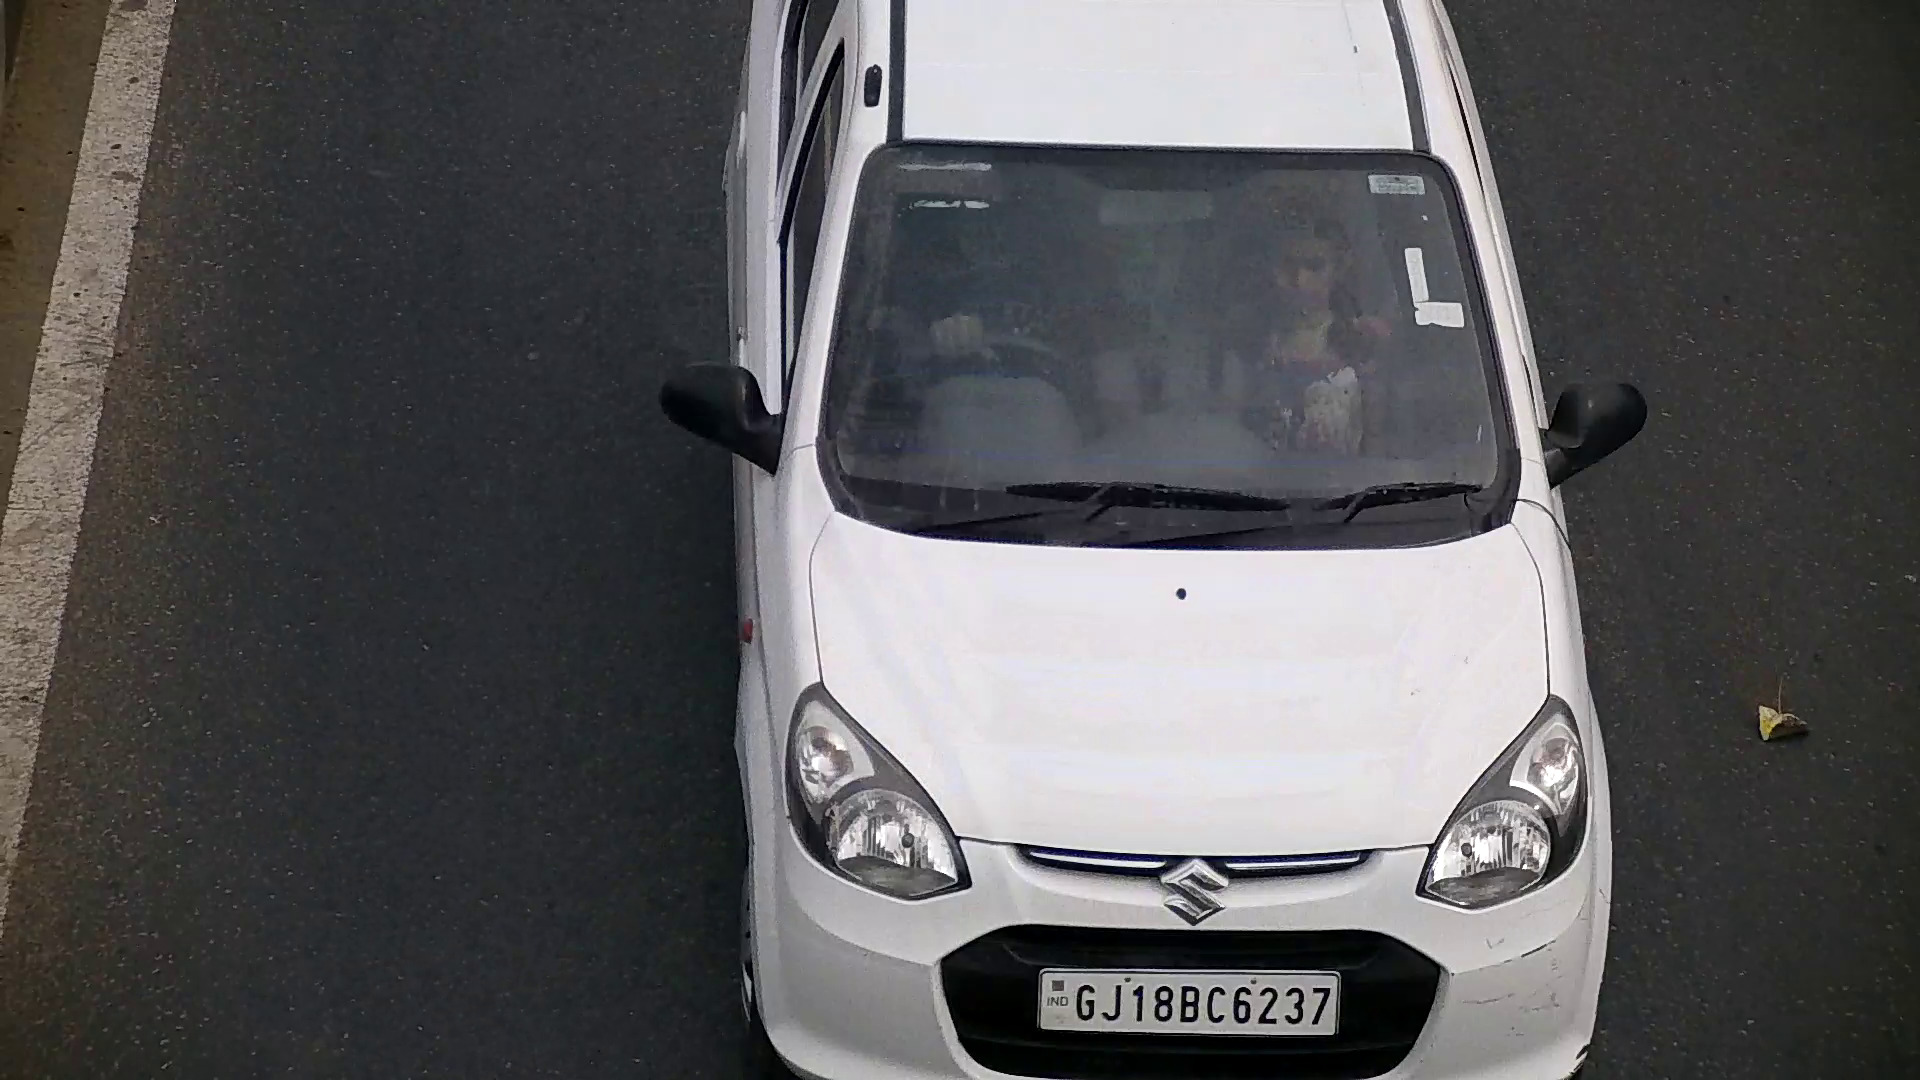numberplate: (1033, 961, 1346, 1037)
